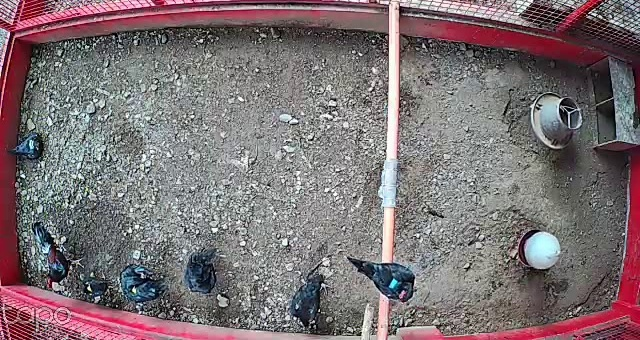Chicken: (345, 250, 418, 306), (288, 268, 332, 329), (178, 245, 225, 298), (118, 263, 170, 305), (6, 131, 43, 164), (80, 276, 114, 302)
Rooster: (29, 221, 87, 292)
Saddle_Color_Blue: (389, 277, 399, 287)
Saddle_Color_Yellow: (84, 282, 93, 292)
